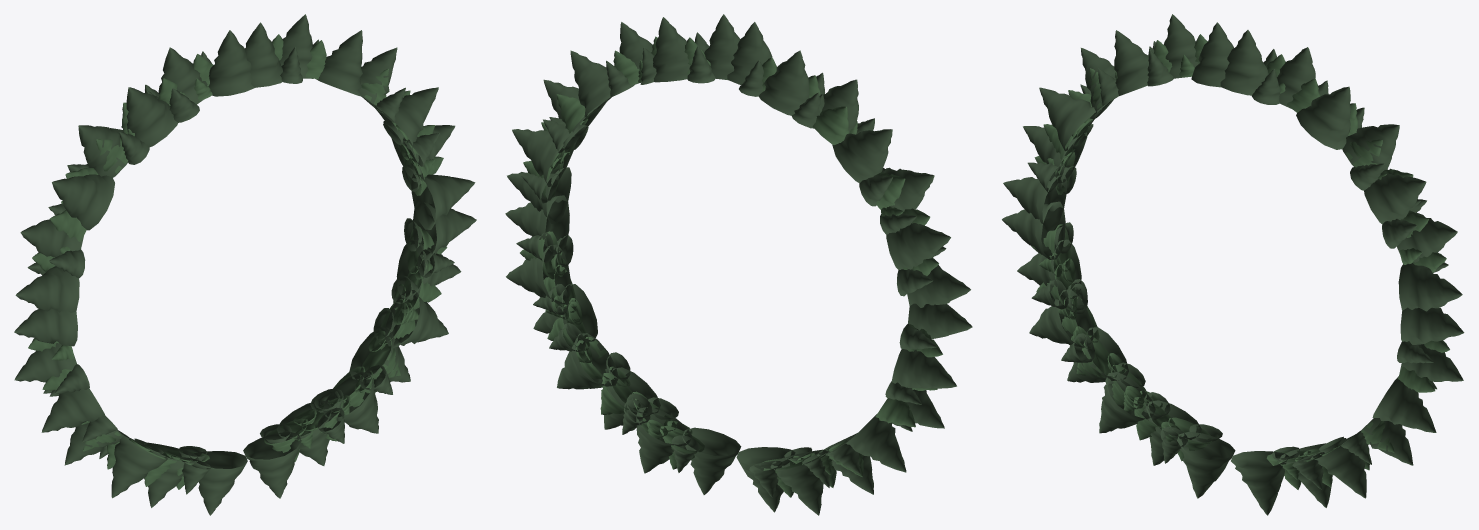
Rendered from Trees 1.fbx.
3 views of the same model, side by side, from view 1: azimuth 30°, elevation 25°; view 2: azimuth 150°, elevation 25°; view 3: azimuth 330°, elevation 25° (orthographic).
Parts seen in each view (by area): view 1: Mountains_5, Mountains_2, Mountains_7, Mountains_3, Mountains_1, Mountains_6, Mountains_4, Mountains_8; view 2: Mountains_5, Mountains_2, Mountains_7, Mountains_3, Mountains_1, Mountains_6, Mountains_4, Mountains_8; view 3: Mountains_3, Mountains_7, Mountains_5, Mountains_2, Mountains_8, Mountains_4, Mountains_6, Mountains_1.
Part boxes in pixels (box(x1,y1,x2,y2)): Mountains_5: box(15, 30, 255, 312); Mountains_2: box(243, 201, 476, 498); Mountains_7: box(14, 308, 247, 515); Mountains_3: box(245, 14, 475, 229); Mountains_1: box(264, 226, 447, 461); Mountains_6: box(32, 54, 213, 271); Mountains_4: box(272, 34, 443, 195); Mountains_8: box(28, 338, 209, 489); Mountains_5: box(727, 22, 970, 307); Mountains_2: box(505, 195, 741, 494); Mountains_7: box(736, 303, 972, 515); Mountains_3: box(507, 14, 740, 223); Mountains_1: box(520, 231, 704, 469); Mountains_6: box(743, 57, 938, 275); Mountains_4: box(523, 36, 710, 200); Mountains_8: box(762, 324, 942, 497); Mountains_3: box(1220, 30, 1462, 311); Mountains_7: box(1002, 201, 1235, 498); Mountains_5: box(1003, 14, 1233, 230); Mountains_2: box(1231, 307, 1464, 515); Mountains_8: box(1031, 224, 1212, 461); Mountains_4: box(1266, 54, 1446, 272); Mountains_6: box(1034, 34, 1207, 194); Mountains_1: box(1266, 340, 1449, 489).
Size of the model in its own units: 280 by 278 by 33.87.
